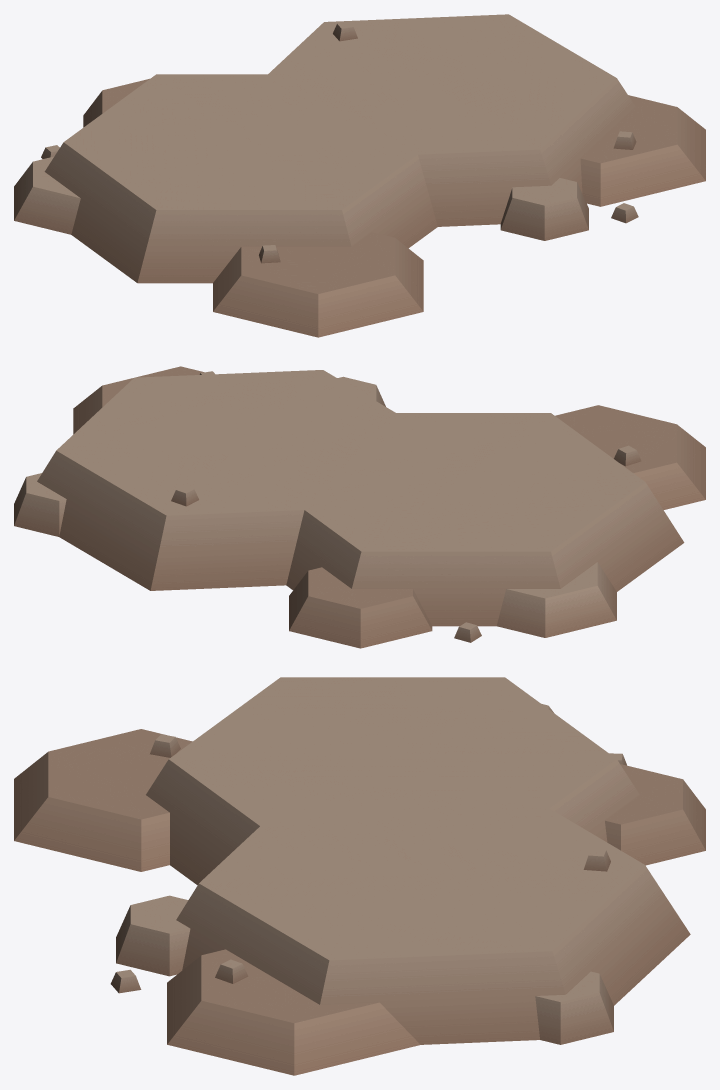
The model's file is rock_flat.glb.
3 views of the same model, one above another, from view 1: azimuth 30°, elevation 25°; view 2: azimuth 150°, elevation 25°; view 3: azimuth 270°, elevation 25° (orthographic). The views are drawn at different scales.
Parts seen in each view (by area): view 1: rock-flat; view 2: rock-flat; view 3: rock-flat.
Part boxes in pixels (left/top/right/bottom): rock-flat: left=14, top=14, right=705, bottom=337; rock-flat: left=14, top=366, right=705, bottom=648; rock-flat: left=14, top=677, right=705, bottom=1075.
Bounding box in the file's own units: 4.73 × 0.5167 × 3.84.
Materials: 1 (1 with a texture image).
